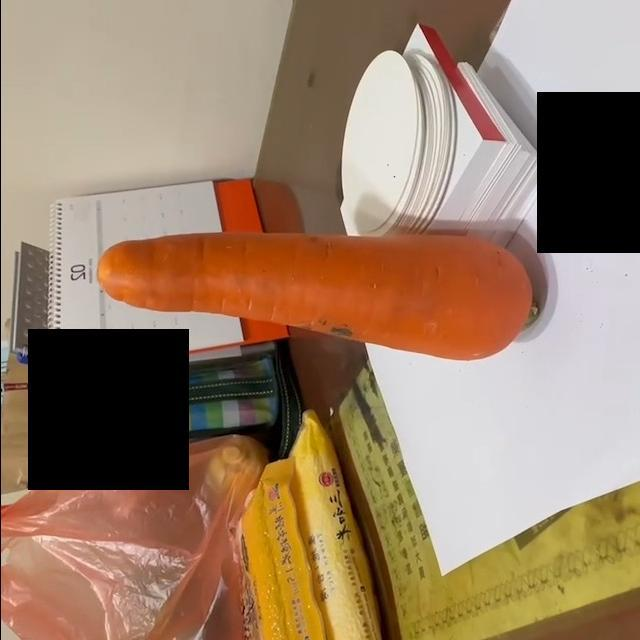carrot: (99, 230, 539, 364)
